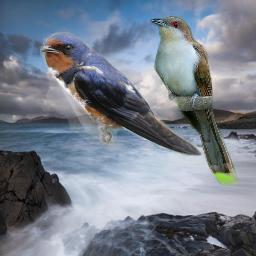Cuckoo: (150, 16, 237, 186)
Swallow: (39, 32, 202, 156)
